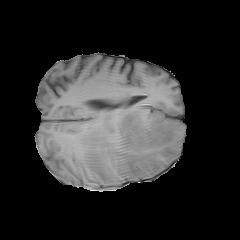glioma: (75, 109, 177, 183)
